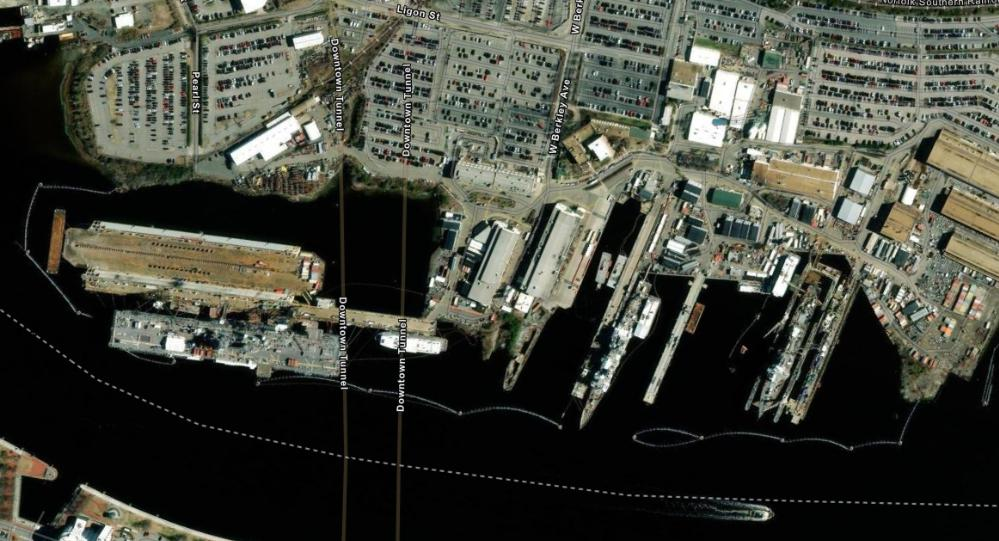cruiser: (580, 280, 653, 431)
pha: (108, 307, 354, 389)
